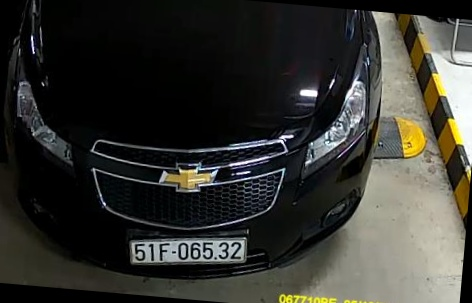plate: (121, 233, 250, 269)
